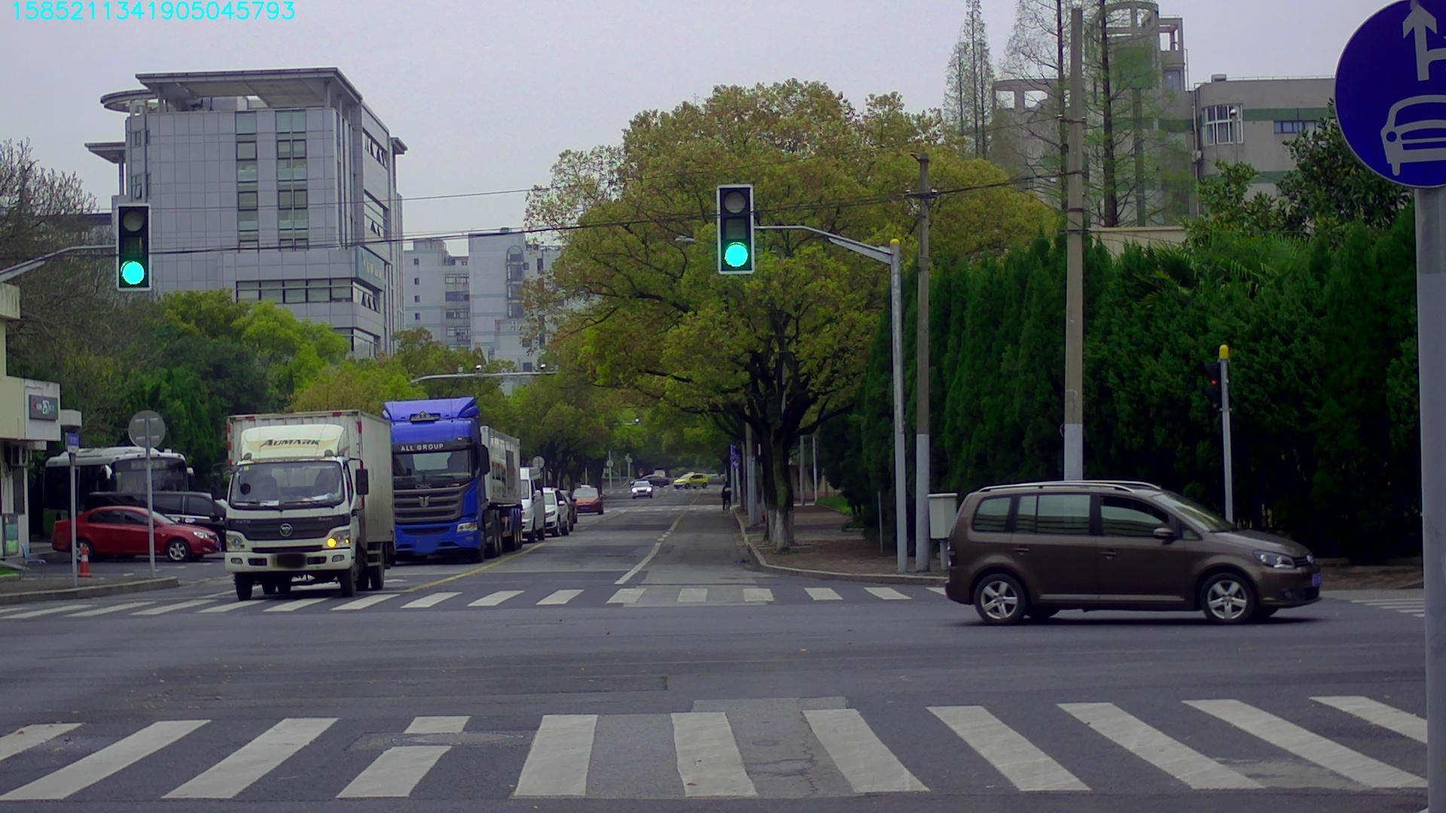green: (717, 185, 752, 272), (117, 204, 150, 289)
